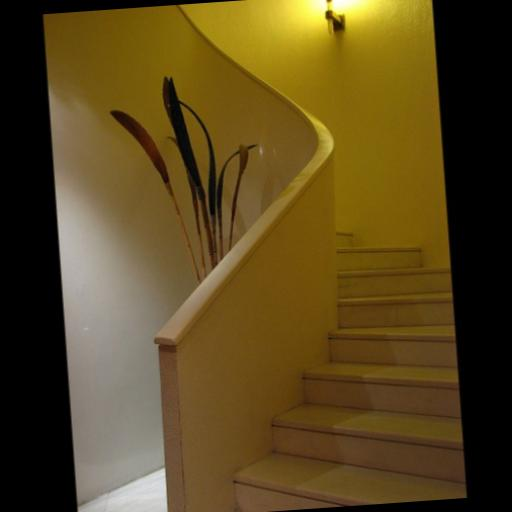stairs: (235, 235, 466, 511)
